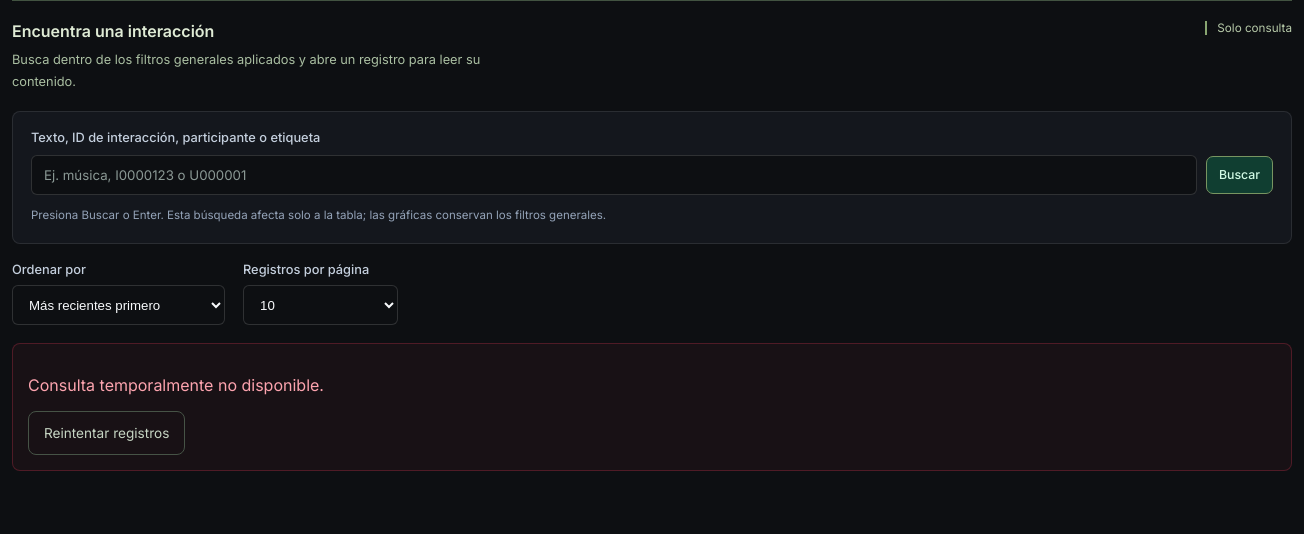
permite reintentar un fallo y responde a la revocación de sesión
The image size is (1304, 534).
Expected: the message shows "Consulta temporalmente", [28, 375, 324, 395]
Click the button "Reintentar registros". click: click(107, 433)
box: [28, 411, 186, 455]
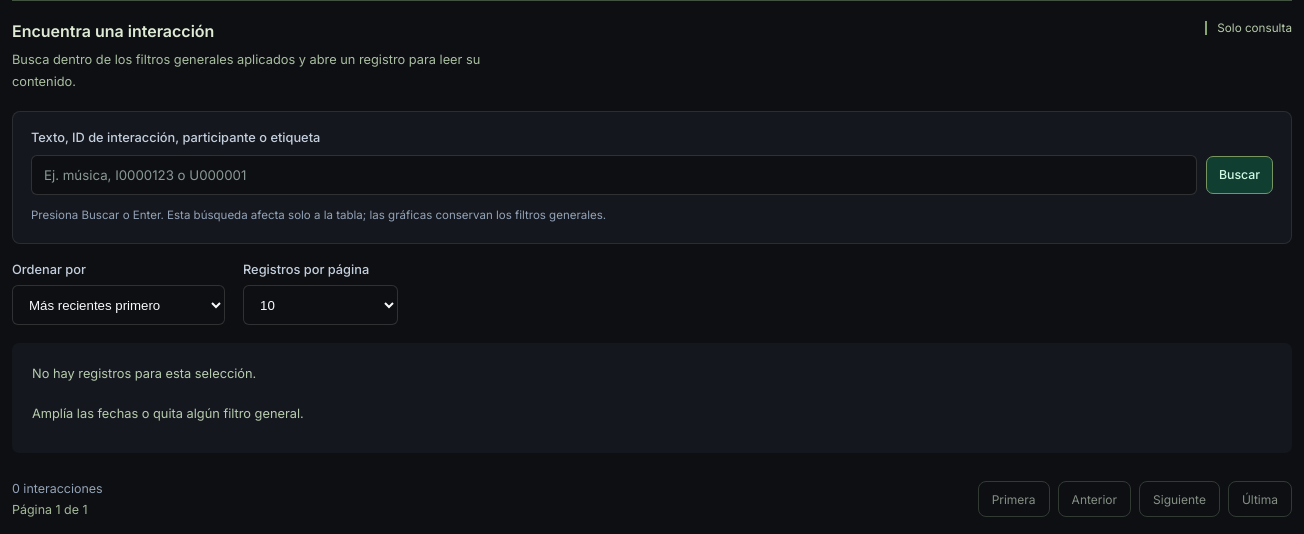
Result: the text "No hay registros para esta selección." is shown at [32, 366, 256, 381]
